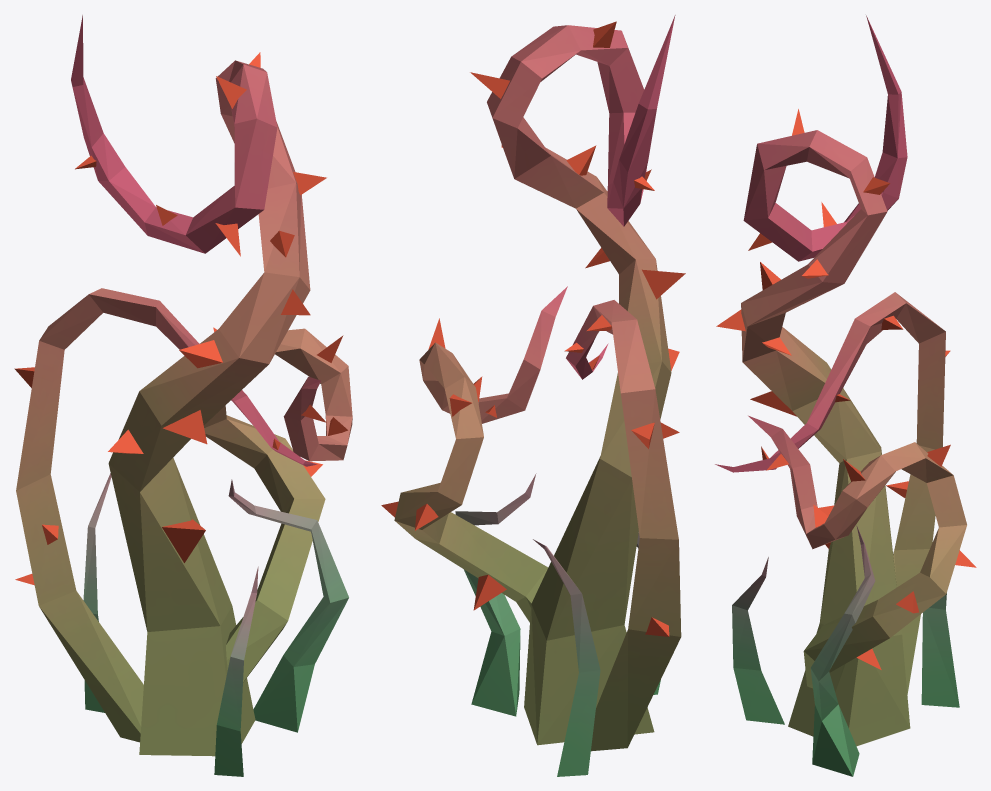
The model's file is plant_XL05.FBX.
The picture shows the model from 3 angles, left to right: view 1: azimuth 30°, elevation 25°; view 2: azimuth 150°, elevation 25°; view 3: azimuth 270°, elevation 25°; orthographic projection. The views are drawn at different scales.
Parts seen in each view (by area): view 1: plant_XL05; view 2: plant_XL05; view 3: plant_XL05.
Part boxes in pixels (x1,y1,x2,y2): plant_XL05: (14,15,352,776); plant_XL05: (381,15,685,776); plant_XL05: (715,15,976,776).
Size of the model in its own units: 135 by 318 by 113.
1 material, 1 textured.
